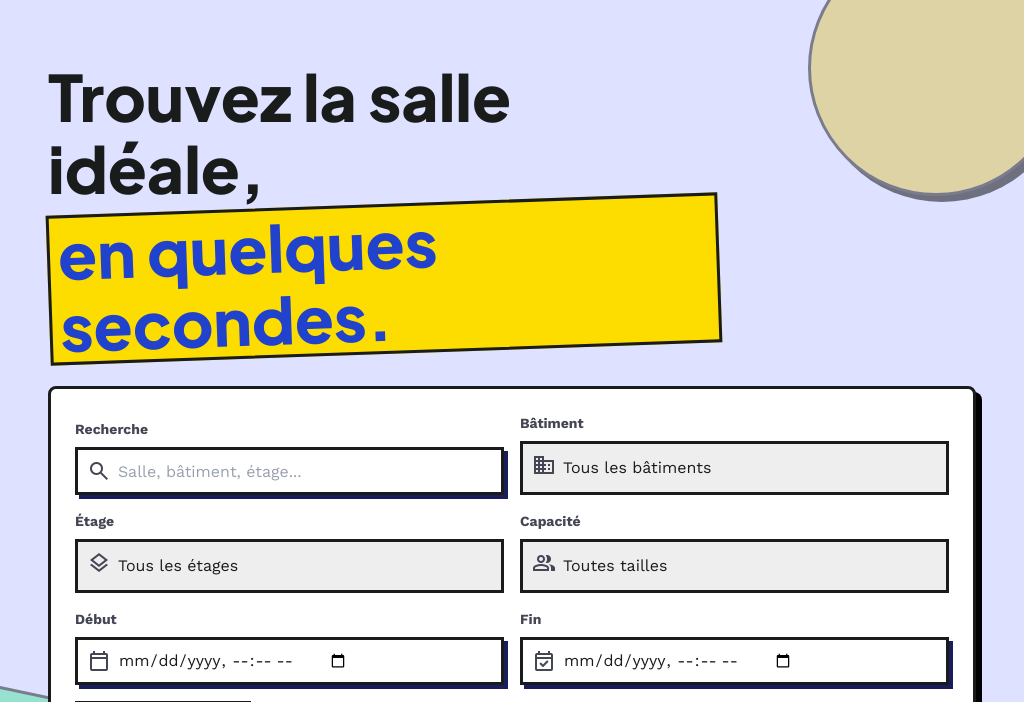
Test case: Home › affiche un toast d erreur si un seul champ de creneau est renseigne
Type "2099-06-26T10:00" into the field below "Début".
click(290, 661); type("2099-06-26T10:00")  # box [75,637,504,685]
(page scrolled)
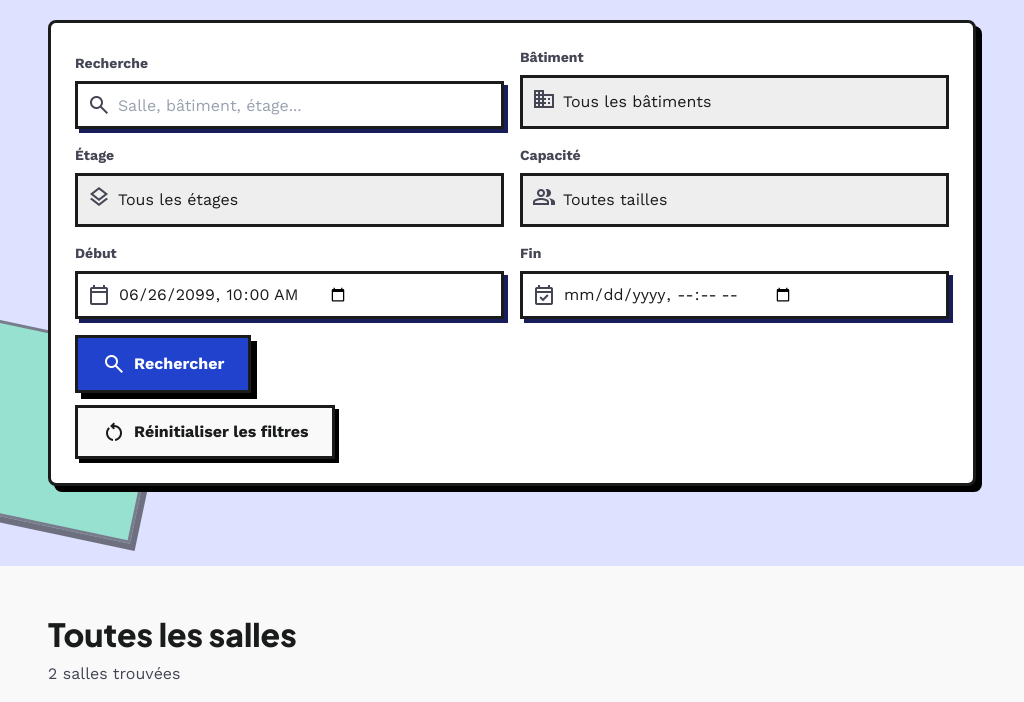
Click the button "Rechercher".
click(163, 364)  # box [75,335,251,393]
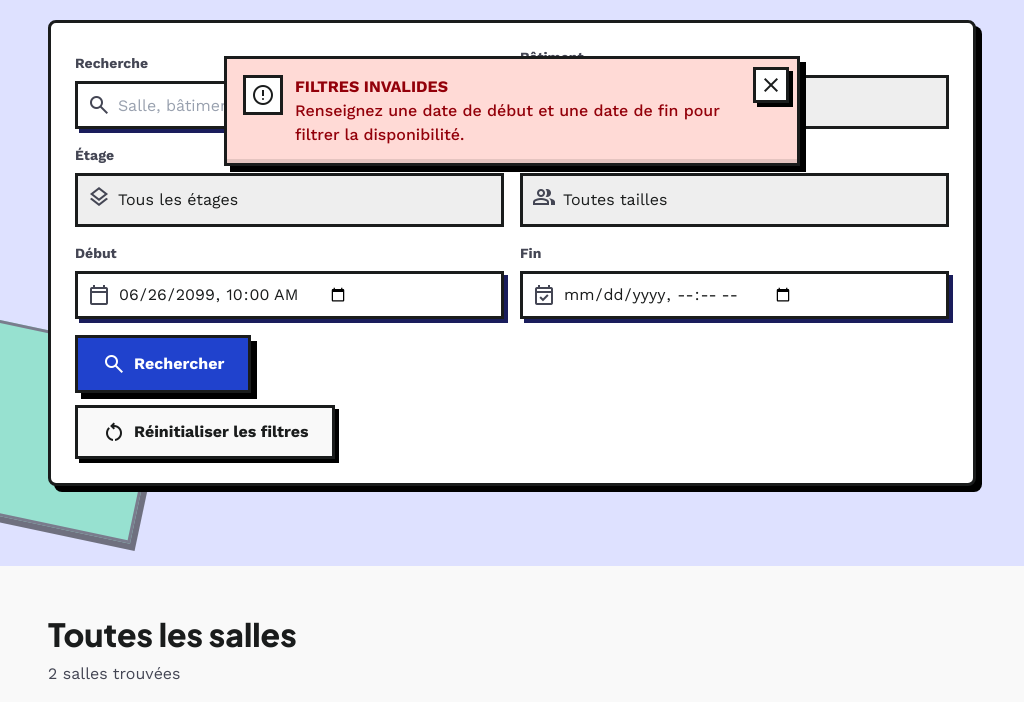
Now the message shows "Filtres invalides", box [295,77,448,96]
Now the message shows "Renseignez une date de début et une date de fin pour filtrer la disponibilité.", box [295,101,720,144]
